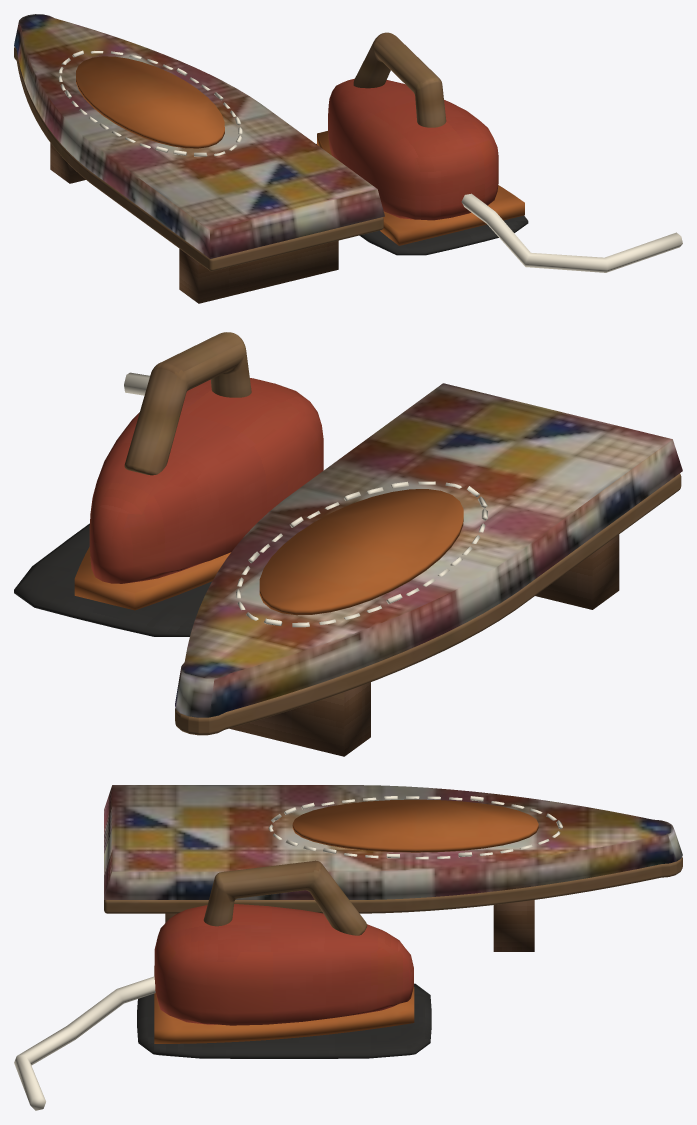
File: press_board.glb
3 renders of one model, top to bottom at view 1: azimuth 30°, elevation 25°; view 2: azimuth 150°, elevation 25°; view 3: azimuth 270°, elevation 25°, orthographic. The views are drawn at different scales.
Parts seen in each view (by area): view 1: press_board_patch_warm, press_board_felt_red, press_board_felt_heat, press_board_wood, press_board_wood_dark, press_board_yarn_cream, press_board_felt_charcoal, press_board_thread; view 2: press_board_patch_warm, press_board_felt_red, press_board_felt_heat, press_board_wood, press_board_wood_dark, press_board_felt_charcoal, press_board_thread; view 3: press_board_patch_warm, press_board_felt_red, press_board_felt_heat, press_board_wood, press_board_felt_charcoal, press_board_yarn_cream, press_board_wood_dark, press_board_thread.
Part boxes in pixels (left/top/right/bottom): press_board_patch_warm: left=14, top=14, right=384, bottom=258; press_board_felt_red: left=328, top=78, right=498, bottom=220; press_board_felt_heat: left=76, top=56, right=524, bottom=245; press_board_wood: left=14, top=32, right=446, bottom=271; press_board_wood_dark: left=50, top=143, right=338, bottom=303; press_board_yarn_cream: left=461, top=193, right=682, bottom=272; press_board_felt_charcoal: left=316, top=144, right=528, bottom=255; press_board_thread: left=58, top=50, right=242, bottom=156; press_board_patch_warm: left=175, top=383, right=682, bottom=717; press_board_felt_red: left=89, top=378, right=323, bottom=583; press_board_felt_heat: left=74, top=489, right=463, bottom=615; press_board_wood: left=124, top=332, right=681, bottom=735; press_board_wood_dark: left=229, top=534, right=619, bottom=756; press_board_felt_charcoal: left=14, top=523, right=211, bottom=636; press_board_thread: left=236, top=481, right=487, bottom=627; press_board_patch_warm: left=104, top=785, right=682, bottom=899; press_board_felt_red: left=154, top=904, right=413, bottom=1025; press_board_felt_heat: left=154, top=799, right=538, bottom=1043; press_board_wood: left=104, top=857, right=682, bottom=935; press_board_felt_charcoal: left=137, top=983, right=431, bottom=1058; press_board_yarn_cream: left=14, top=976, right=155, bottom=1110; press_board_wood_dark: left=165, top=900, right=534, bottom=951; press_board_thread: left=268, top=796, right=562, bottom=859.
Bounding box in the file's own units: 0.6516 × 0.2222 × 0.8157.
9 materials, 7 textured.
